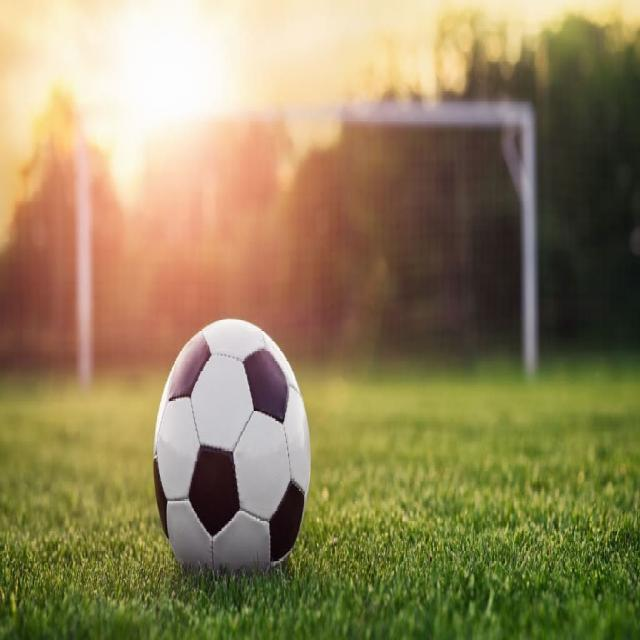soccer ball: (154, 319, 312, 582)
